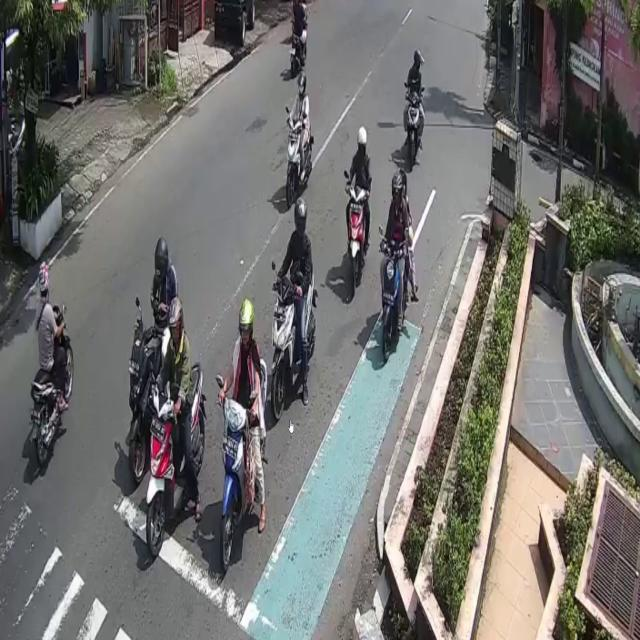bus: (147, 360, 203, 562), (220, 356, 268, 562), (272, 264, 316, 432), (31, 304, 74, 469), (128, 321, 162, 487), (382, 241, 403, 360), (348, 185, 366, 292), (404, 93, 424, 173), (285, 120, 304, 203)
